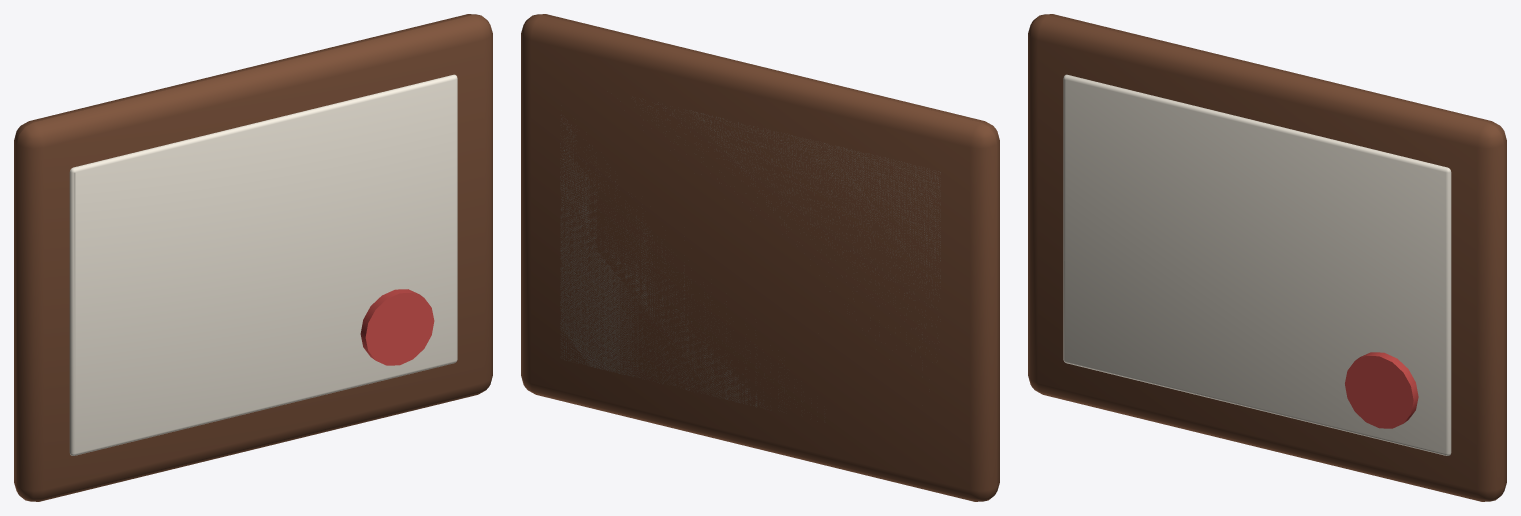
Rendered from gift-marco.glb.
3 renders of one model, left to right at view 1: azimuth 30°, elevation 25°; view 2: azimuth 150°, elevation 25°; view 3: azimuth 330°, elevation 25°, orthographic.
Parts seen in each view (by area): view 1: gift-marco; view 2: gift-marco; view 3: gift-marco.
Boxes of the visible parts, <box> form: gift-marco: <box>14,14,492,501</box>; gift-marco: <box>521,14,999,501</box>; gift-marco: <box>1028,14,1506,501</box>.
Size of the model in its own units: 0.55 by 0.42 by 0.055.
